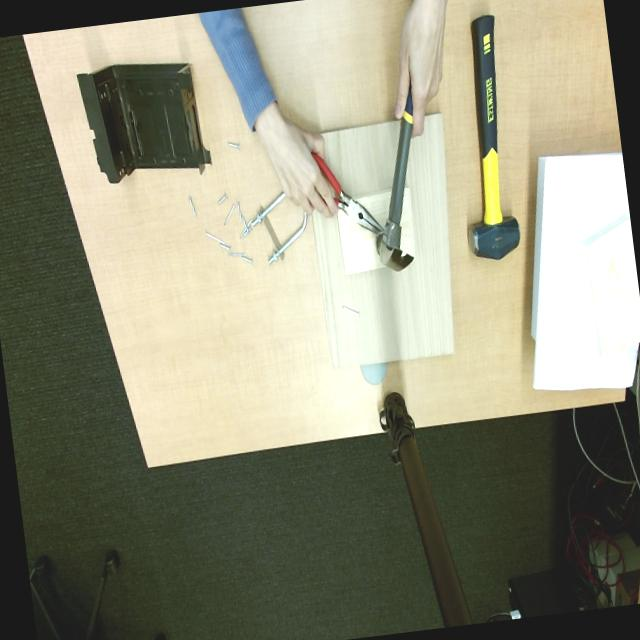hammer: (468, 15, 520, 259), (376, 87, 413, 270)
pliers: (312, 153, 384, 235)
